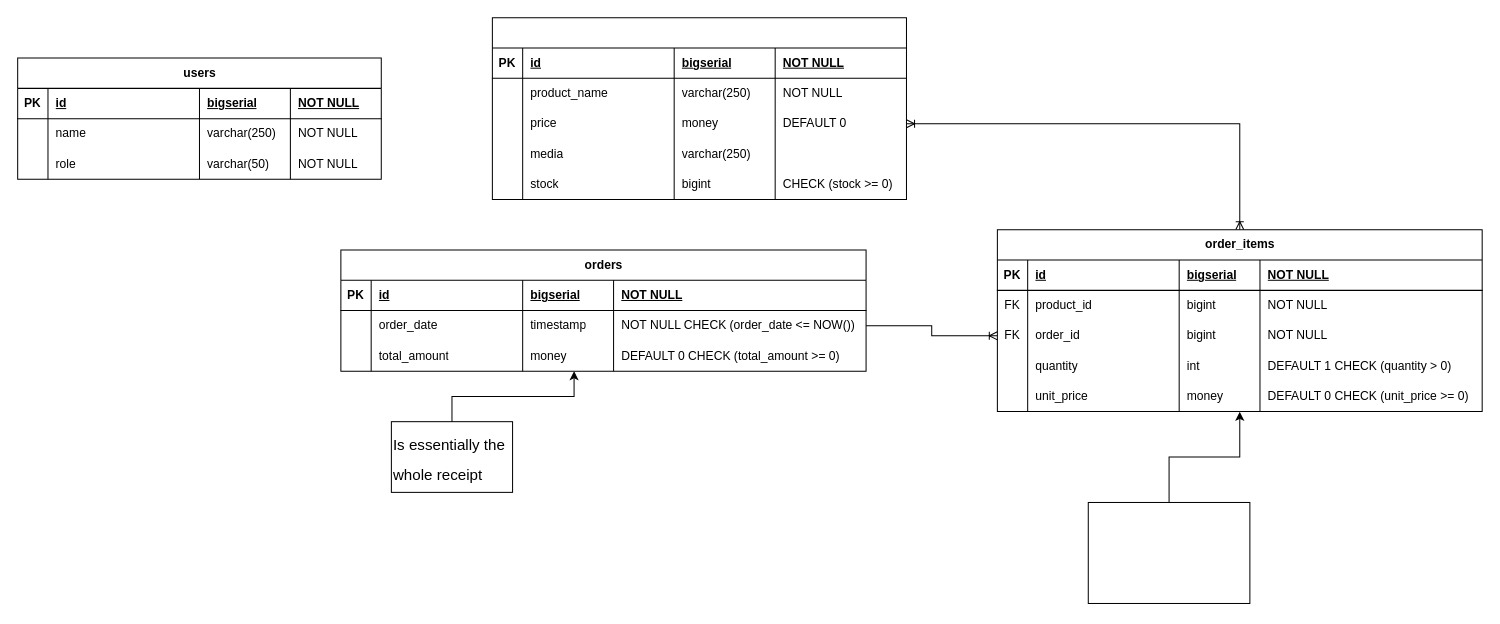
Image size: 1500x624. Some labels were removed from this diagram. Here are the shapes that lost their labels. From the top down, the box of each, then its label:
(491, 17, 906, 199): products
(1087, 501, 1250, 603): Is associated with a product and an order receipt (orders)
